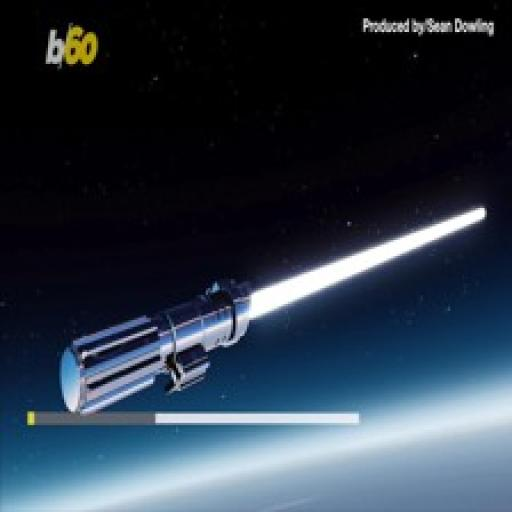lightsaber: (54, 200, 492, 409)
